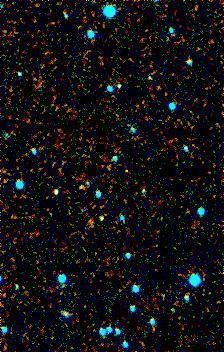star: (86, 203, 116, 233)
